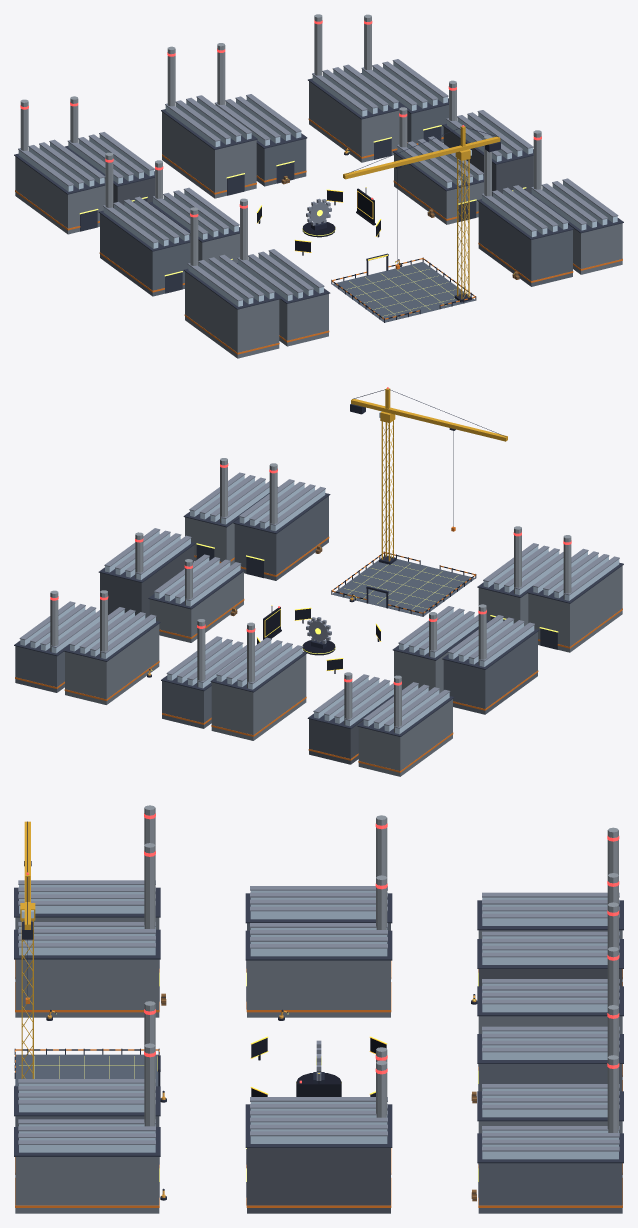
3 views of the same model, one above another, from view 1: azimuth 30°, elevation 25°; view 2: azimuth 150°, elevation 25°; view 3: azimuth 270°, elevation 25° (orthographic). The views are drawn at different scales.
Visible parts, largest first — view 1: district_city_taller.lod1; view 2: district_city_taller.lod1; view 3: district_city_taller.lod1.
Boxes of the visible parts, <box> form: district_city_taller.lod1: <box>14,14,623,358</box>; district_city_taller.lod1: <box>14,387,623,776</box>; district_city_taller.lod1: <box>14,805,623,1213</box>.
Bounding box in the file's own units: 97.4 × 41.97 × 97.4.
